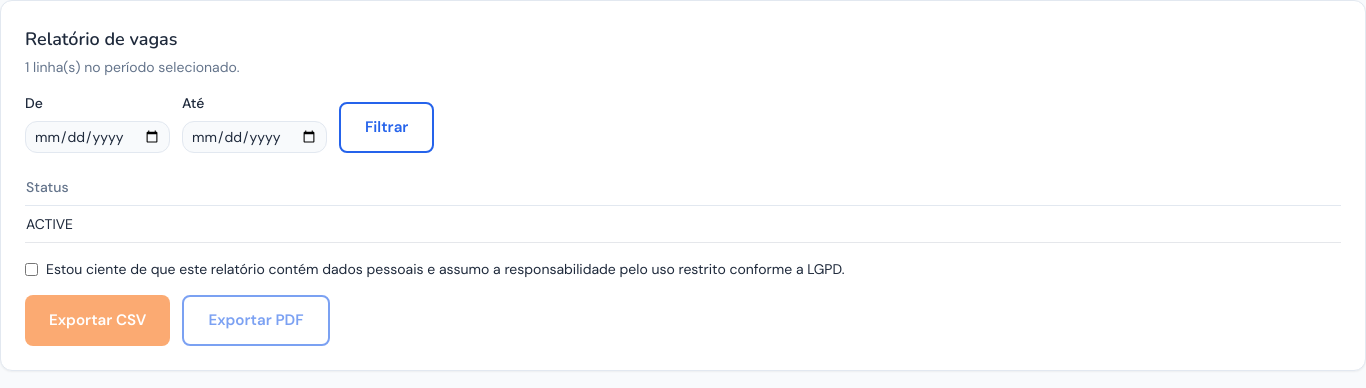
ReportView — gate de ciência LGPD (REL42-MN-06 / REL42-MN-01) › containsPII=true: botões de export começam desabilitados e habilitam só após marcar o checkbox de ciência
Expected: the button "Exportar CSV" is disabled, [25,295,170,346]
Expected: the button "Exportar PDF" is disabled, [182,295,330,346]
Click the checkbox at [32, 269], box [25,262,38,276]
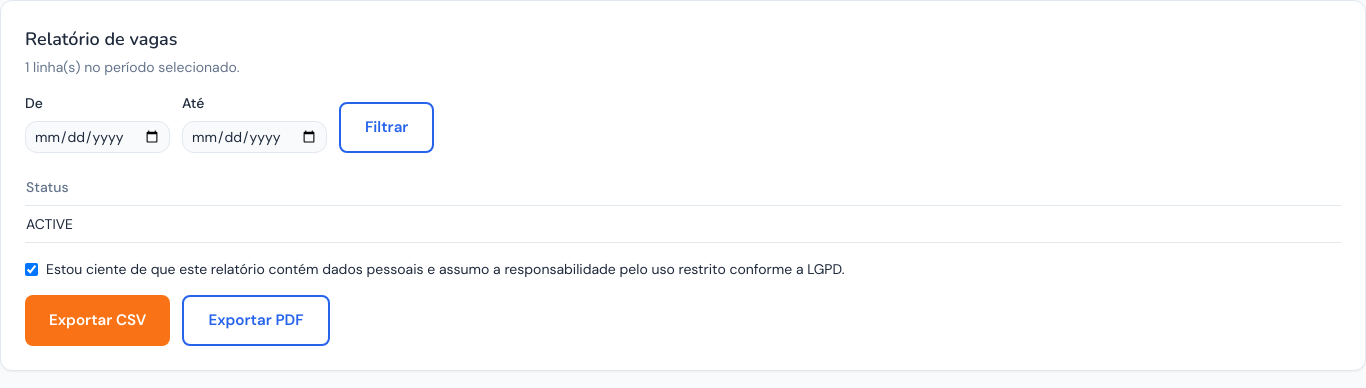
Result: the checkbox is checked at [25,262,38,276]
Result: the button "Exportar CSV" is enabled at [25,295,170,346]
Result: the button "Exportar PDF" is enabled at [182,295,330,346]
